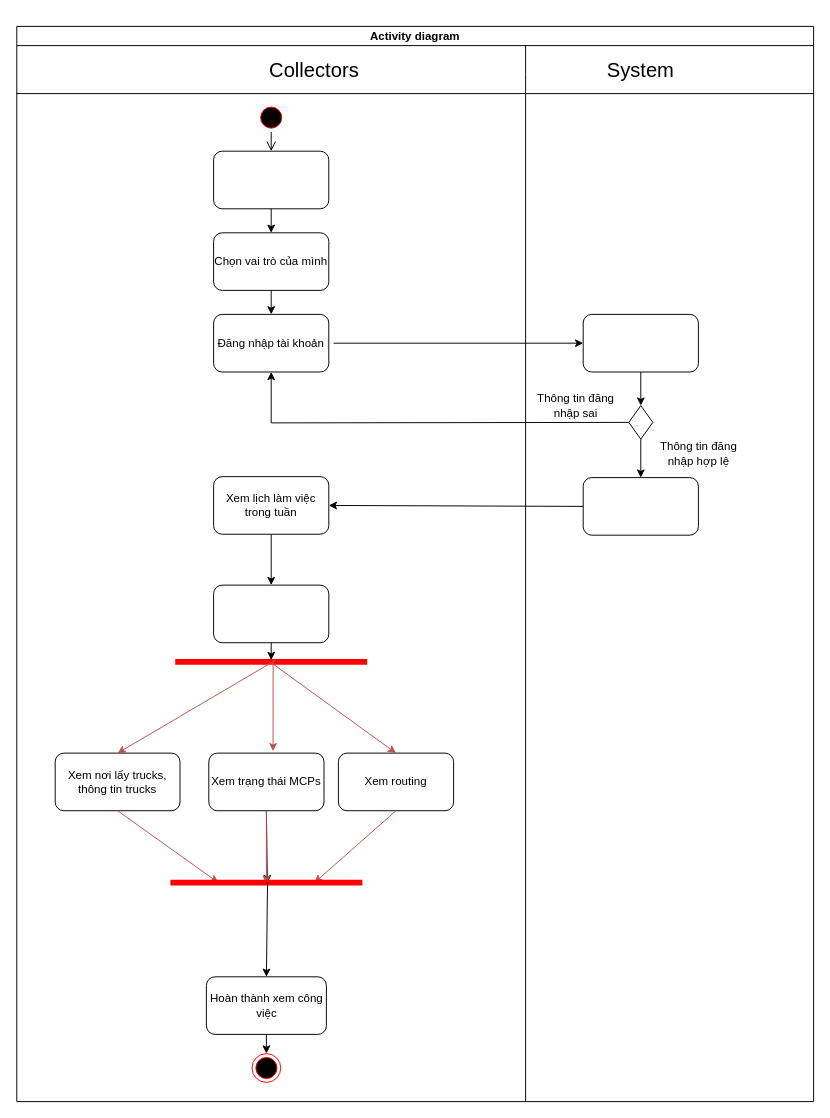
This 830x1118 diagram has some shape labels left out. Here are the shapes that lost their labels. From the top down, the centre of each, then its label:
(271,179): Truy cập vào web
(640,342): Kiểm tra thông tin
(640,506): Thông báo đăng nhập thành công
(271,613): Xem nội dung công việc
